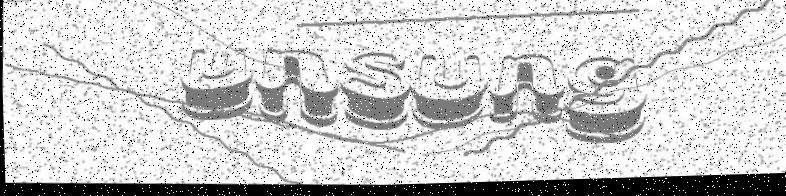g: (563, 58, 649, 148)
n: (252, 47, 342, 131), (488, 55, 566, 129)
s: (339, 53, 412, 133)
u: (408, 55, 487, 132), (179, 49, 255, 122)
